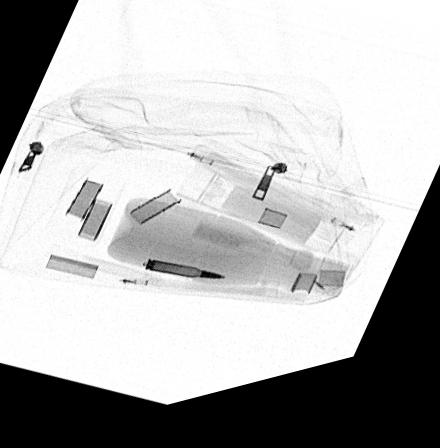Bullet: (143, 264, 226, 290)
